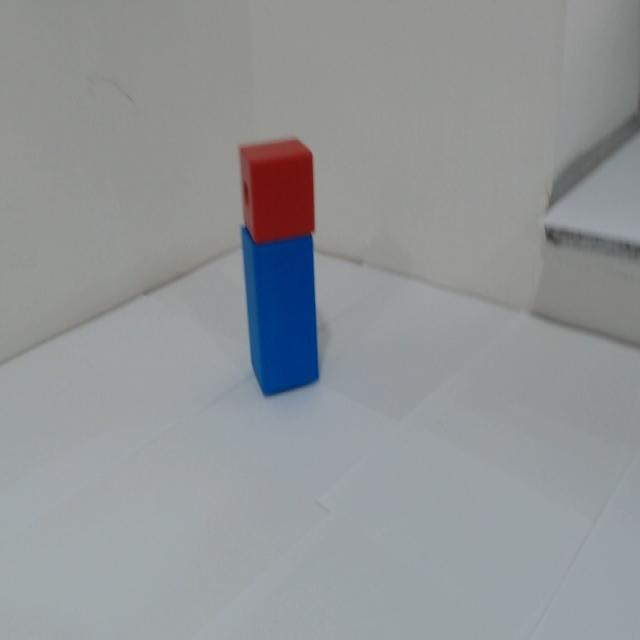cube: (233, 135, 330, 247)
